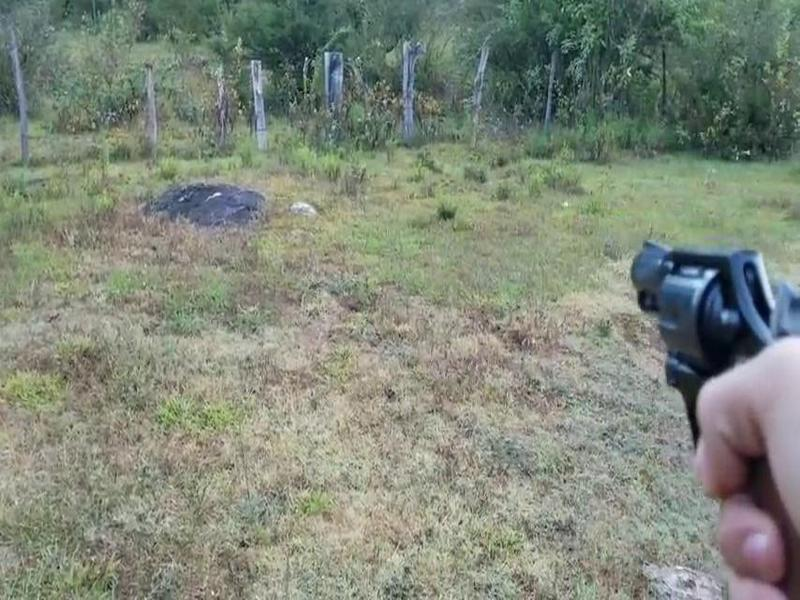Revolver: (614, 224, 800, 484)
